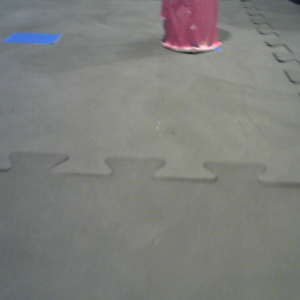Right: (161, 1, 222, 51)
